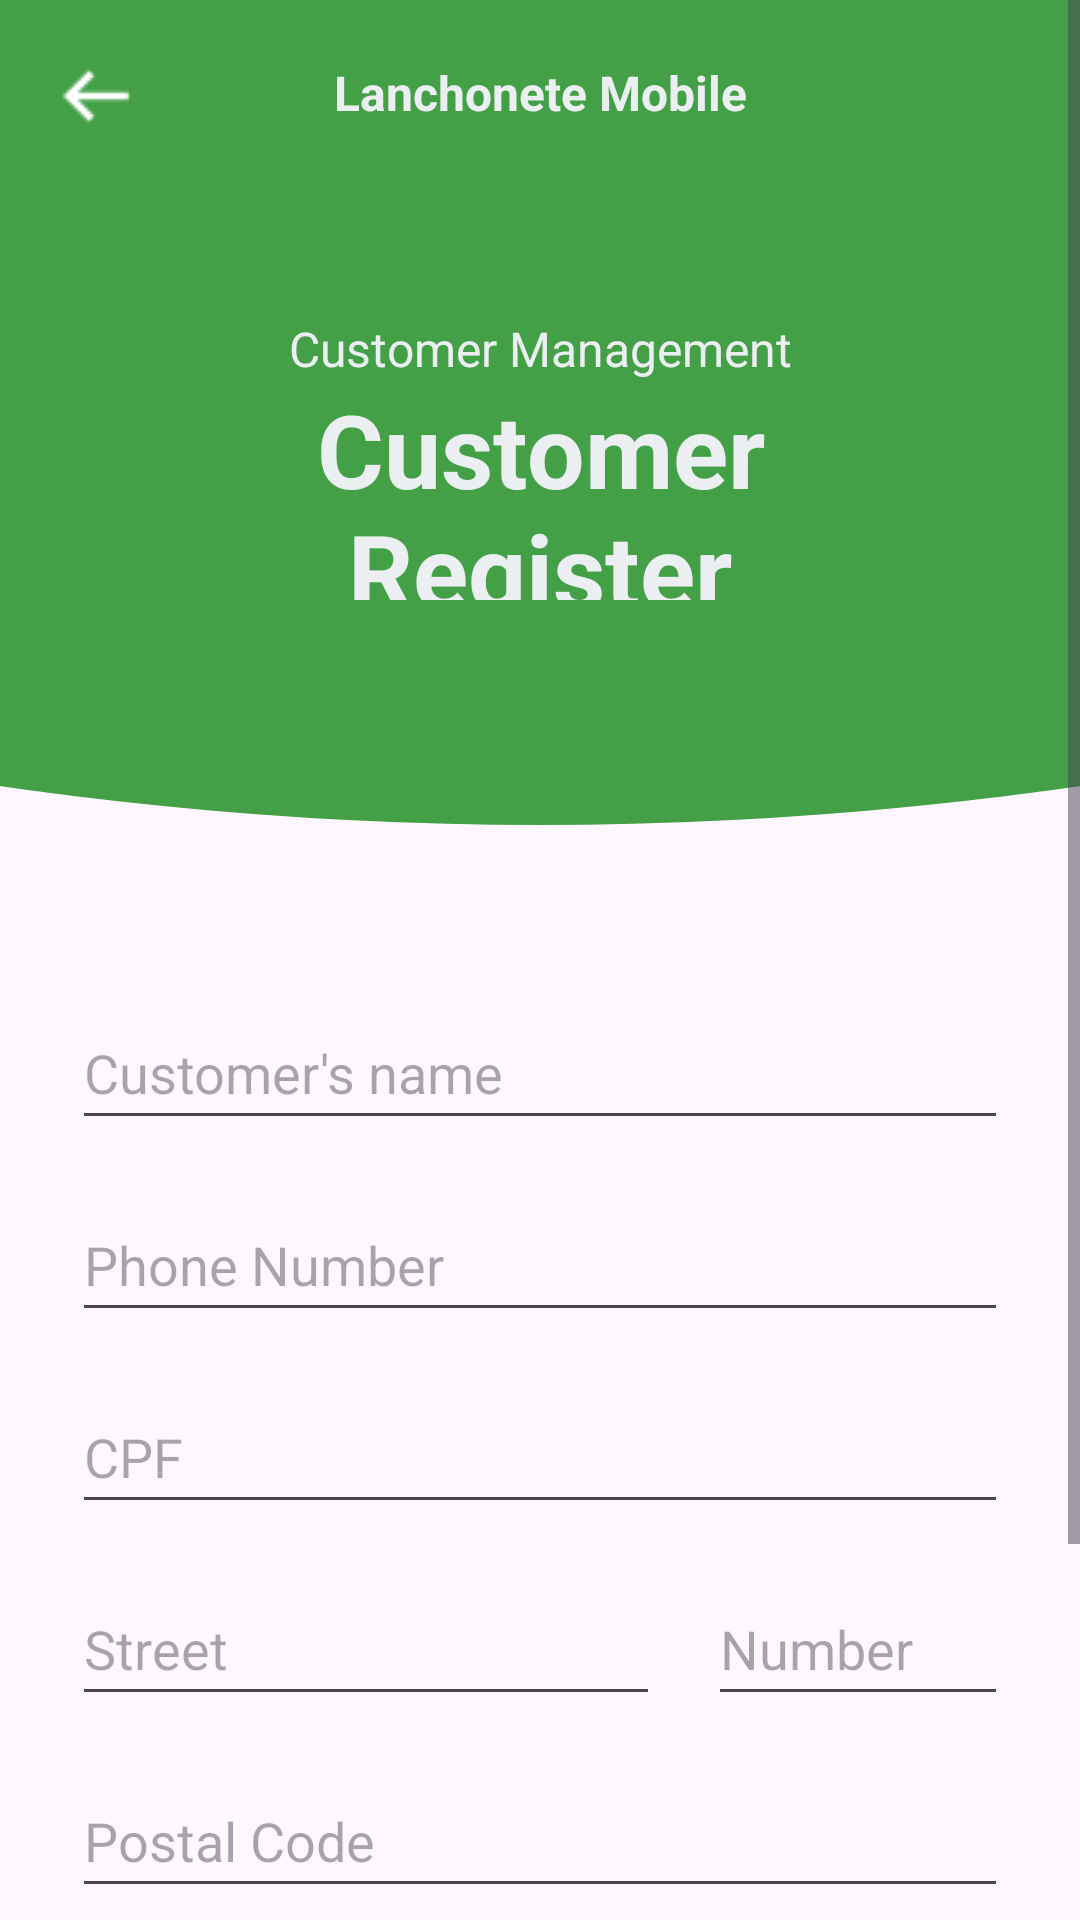

Where to tap for icons on this 1080x1920 app screen, as point (x, y):
Back: point (96, 96)
